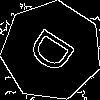D: (26, 26, 85, 81)
